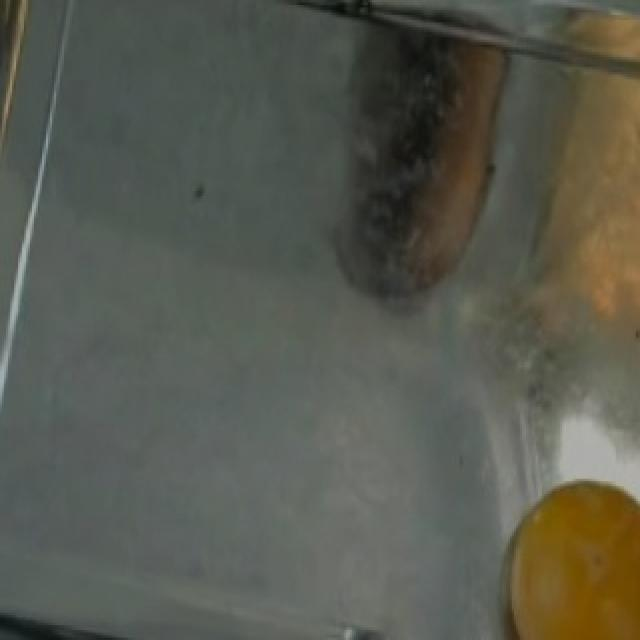Fruit: (478, 461, 640, 640)
